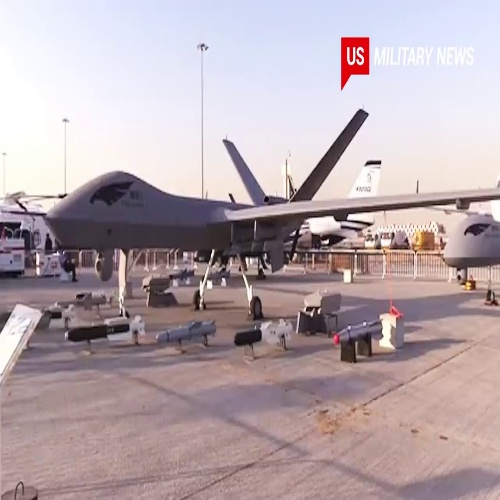uav22: (38, 110, 441, 281)
